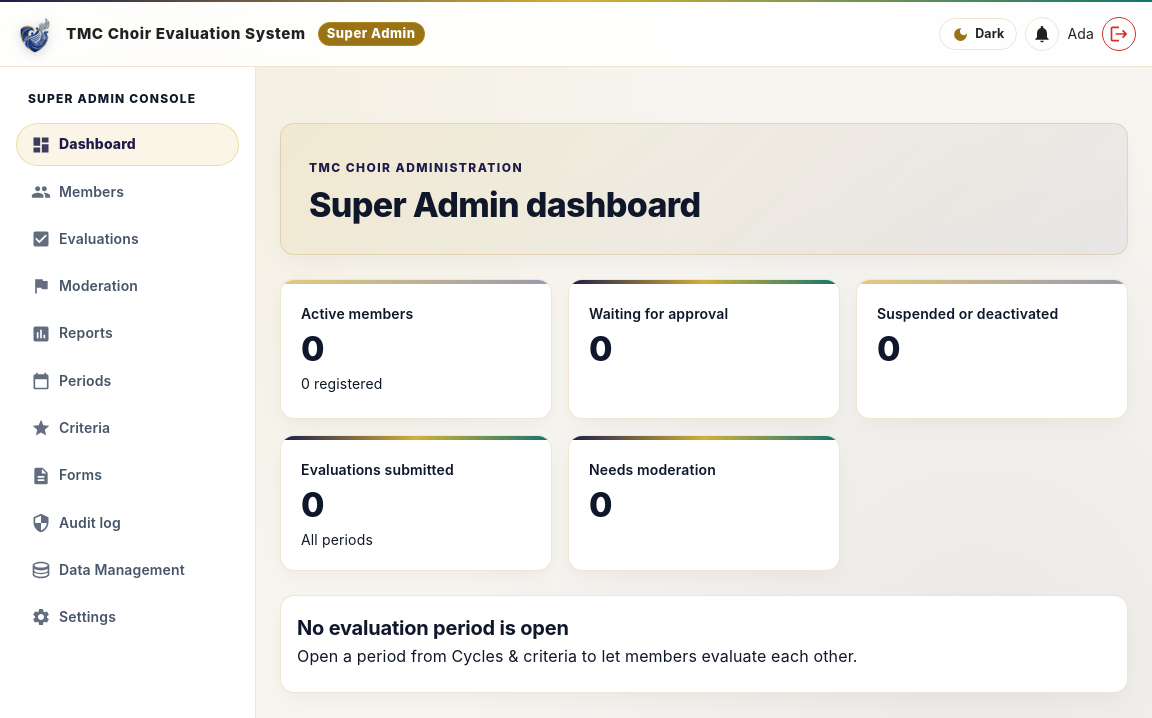
Test: logout › returns a Super Admin from /admin to the admin login page
Click the button named "log out".
click(1119, 34)  # box [1102, 17, 1136, 51]
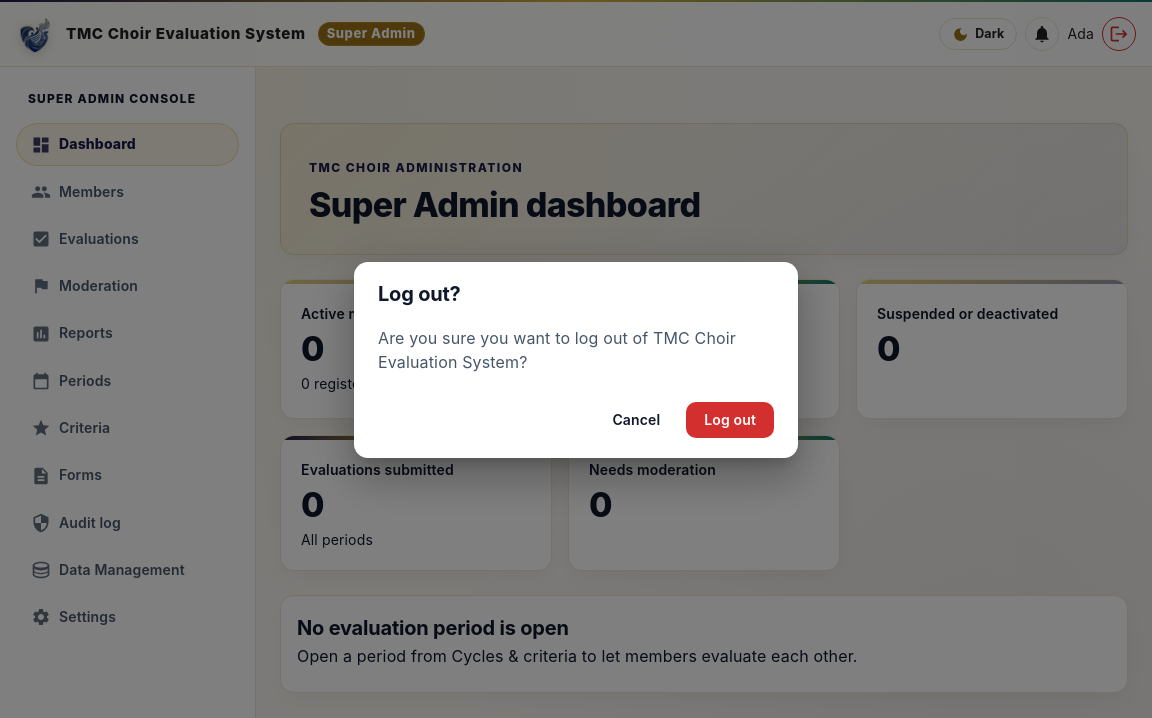
Expected: the dialog is shown, [354, 262, 798, 458]
Click the button "Log out".
click(730, 420)  # box [686, 402, 774, 438]
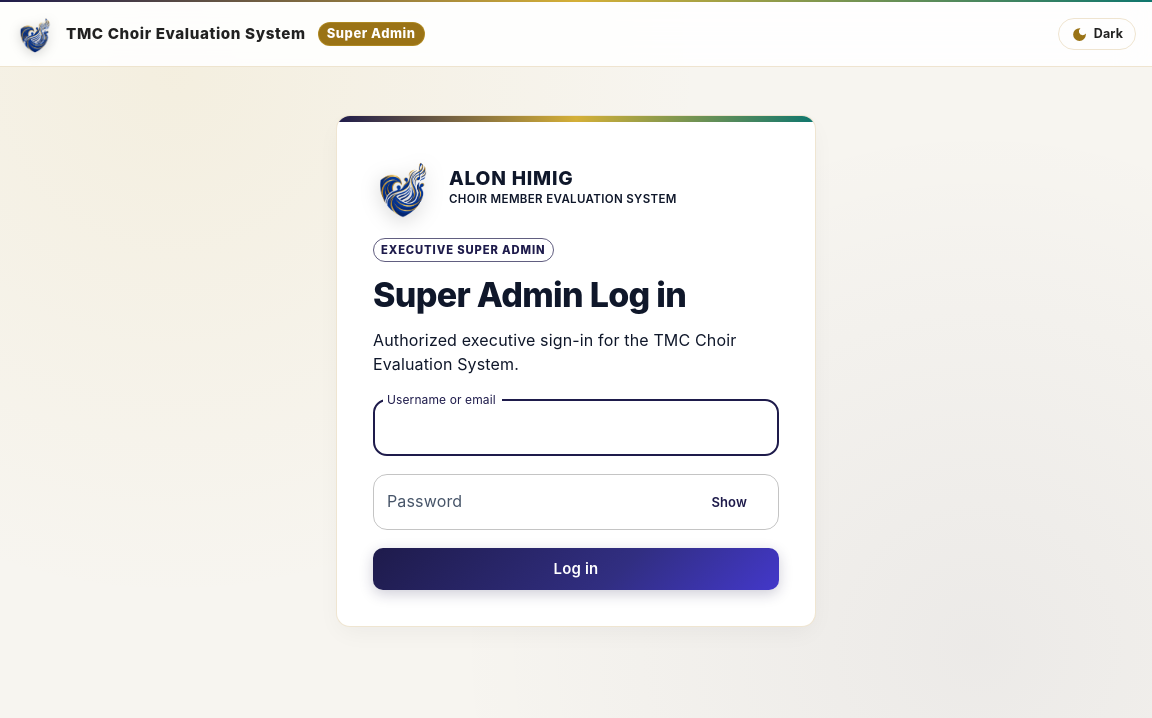
Expected: the heading "Super Admin Log in" is shown, [373, 274, 686, 315]
Expected: the button "Log out" is gone
